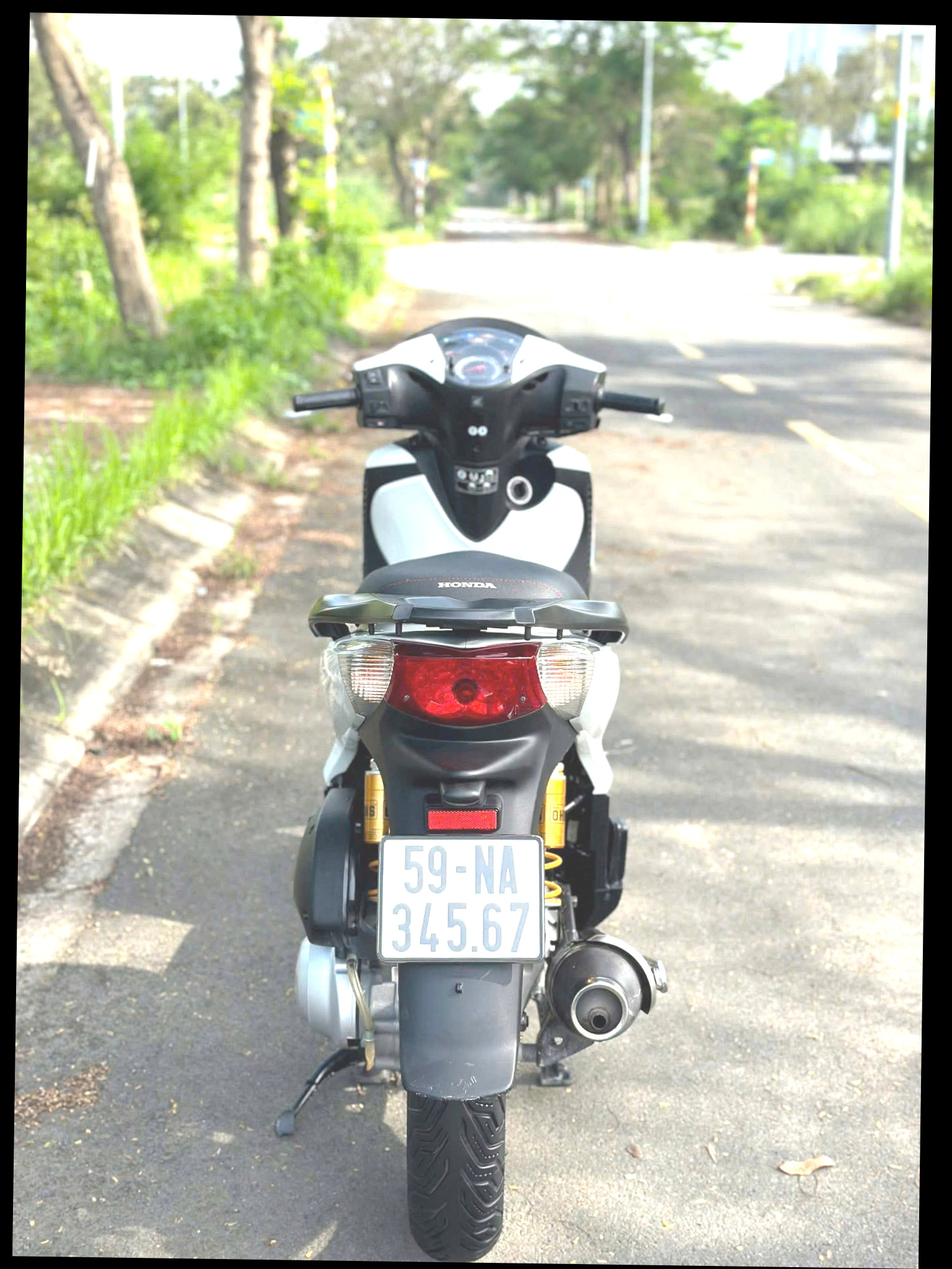Bien-so: (381, 840, 551, 959)
